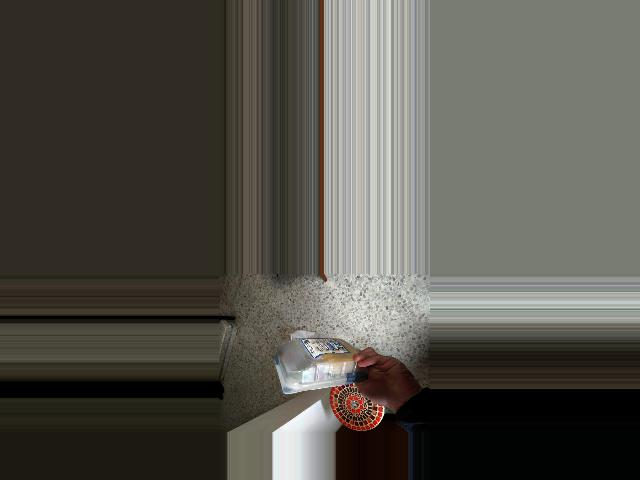cheese: (272, 337, 365, 389)
